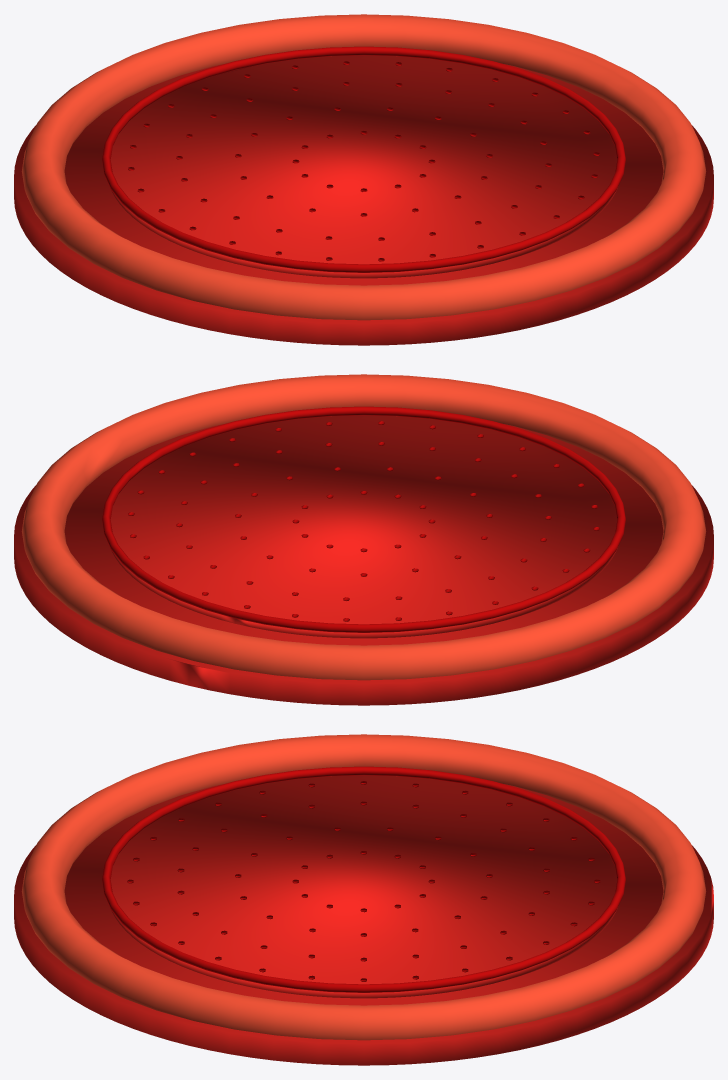
File: Bodenmarkierung_3D.glb
The picture shows the model from 3 angles, top to bottom: view 1: azimuth 30°, elevation 25°; view 2: azimuth 150°, elevation 25°; view 3: azimuth 270°, elevation 25°; orthographic projection.
Parts seen in each view (by area): view 1: Bodenmarkierung_3D__web_glossy_red_flexible_floor_marker, Bodenmarkierung_3D__web_red_raised_rim_highlight, Bodenmarkierung_3D__web_slightly_darker_stippled_red_surface; view 2: Bodenmarkierung_3D__web_glossy_red_flexible_floor_marker, Bodenmarkierung_3D__web_red_raised_rim_highlight, Bodenmarkierung_3D__web_slightly_darker_stippled_red_surface; view 3: Bodenmarkierung_3D__web_glossy_red_flexible_floor_marker, Bodenmarkierung_3D__web_red_raised_rim_highlight, Bodenmarkierung_3D__web_slightly_darker_stippled_red_surface.
Boxes of the visible parts, left/top/right/bottom form: Bodenmarkierung_3D__web_glossy_red_flexible_floor_marker: left=14, top=55, right=713, bottom=345; Bodenmarkierung_3D__web_red_raised_rim_highlight: left=21, top=14, right=706, bottom=320; Bodenmarkierung_3D__web_slightly_darker_stippled_red_surface: left=102, top=46, right=625, bottom=272; Bodenmarkierung_3D__web_glossy_red_flexible_floor_marker: left=14, top=415, right=713, bottom=705; Bodenmarkierung_3D__web_red_raised_rim_highlight: left=21, top=374, right=706, bottom=680; Bodenmarkierung_3D__web_slightly_darker_stippled_red_surface: left=102, top=406, right=625, bottom=632; Bodenmarkierung_3D__web_glossy_red_flexible_floor_marker: left=14, top=775, right=713, bottom=1065; Bodenmarkierung_3D__web_red_raised_rim_highlight: left=21, top=734, right=706, bottom=1040; Bodenmarkierung_3D__web_slightly_darker_stippled_red_surface: left=102, top=766, right=625, bottom=992.
Size of the model in its own units: 0.72 by 0.0509 by 0.72.
